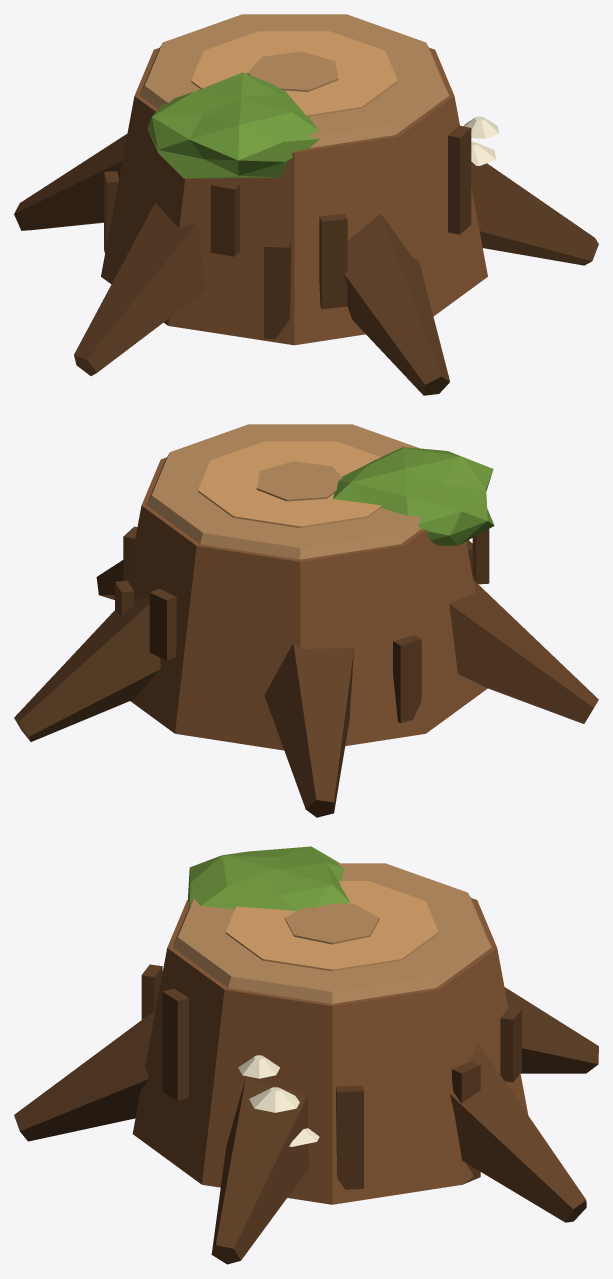
File: tocon.glb
The picture shows the model from 3 angles, top to bottom: view 1: azimuth 30°, elevation 25°; view 2: azimuth 150°, elevation 25°; view 3: azimuth 270°, elevation 25°; orthographic projection. The views are drawn at different scales.
Visible parts, largest first — view 1: tocon_tronco_osc, tocon_tronco, tocon_corteza_clara, tocon_musgo, tocon_madera_clara, tocon_seta_crema; view 2: tocon_tronco, tocon_tronco_osc, tocon_corteza_clara, tocon_musgo, tocon_madera_clara; view 3: tocon_tronco, tocon_tronco_osc, tocon_corteza_clara, tocon_madera_clara, tocon_musgo, tocon_seta_crema.
Part boxes in pixels (x1,y1,x2,y2): tocon_tronco_osc: (14, 125, 598, 395); tocon_tronco: (101, 47, 487, 345); tocon_corteza_clara: (139, 14, 449, 148); tocon_musgo: (147, 72, 319, 178); tocon_madera_clara: (191, 31, 397, 116); tocon_seta_crema: (463, 116, 498, 165); tocon_tronco: (127, 457, 487, 750); tocon_tronco_osc: (14, 526, 598, 817); tocon_corteza_clara: (147, 424, 420, 559); tocon_musgo: (333, 447, 494, 545); tocon_madera_clara: (198, 441, 381, 527); tocon_tronco: (132, 898, 528, 1204); tocon_tronco_osc: (14, 964, 598, 1264); tocon_corteza_clara: (172, 863, 491, 1003); tocon_madera_clara: (225, 881, 438, 971); tocon_musgo: (188, 846, 350, 910); tocon_seta_crema: (238, 1055, 319, 1146).
Bounding box in the file's own units: 2.25 × 0.959 × 2.16.
